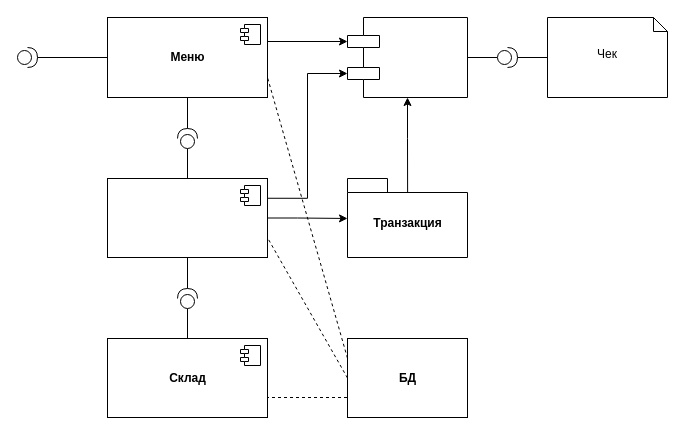
Image size: 685x435. Some labels were removed from this diagram. Here are the shapes that lost their labels. From the top down, the centre of each, then its label:
At point 407,57: "Счет".
At point 187,218: "Обработчик заказа".
